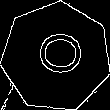O_W: (29, 33, 84, 80)
